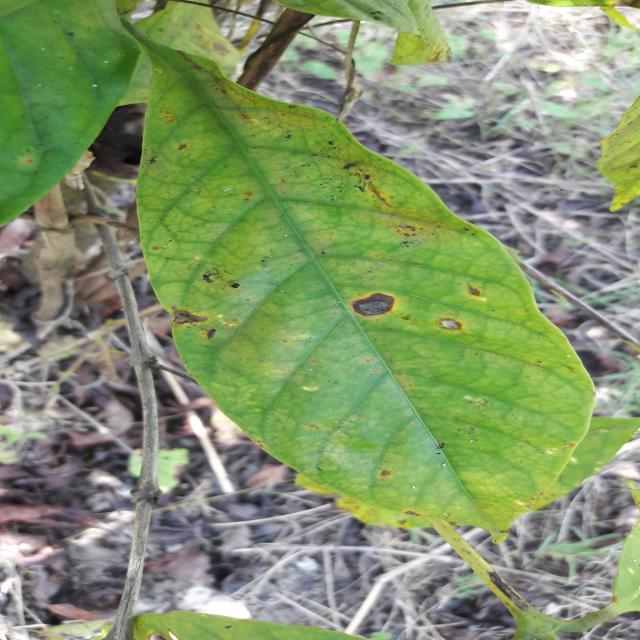Plaga-AranaRoja: (136, 38, 596, 538)
